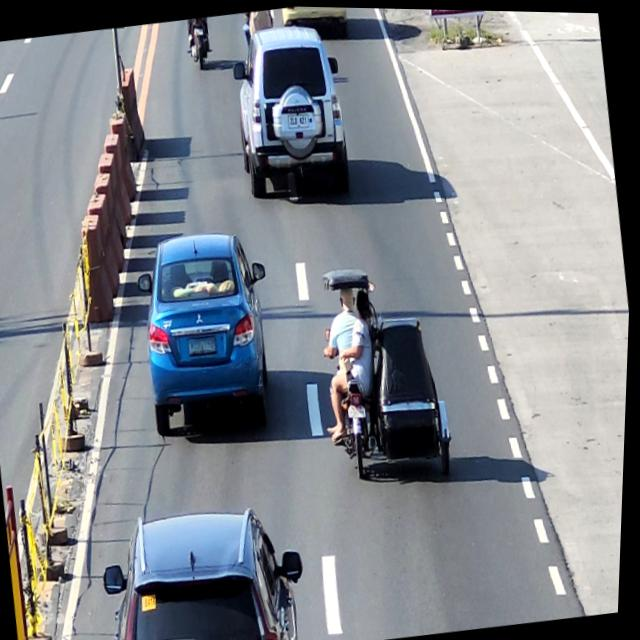Car: (130, 223, 290, 436), (95, 494, 322, 640), (224, 17, 359, 213), (281, 5, 351, 40)
License-Plate: (189, 334, 221, 357), (350, 400, 371, 419), (288, 112, 310, 130), (192, 26, 204, 37)
Motorcycle: (187, 16, 214, 67)
Tricycle: (312, 251, 465, 487)
